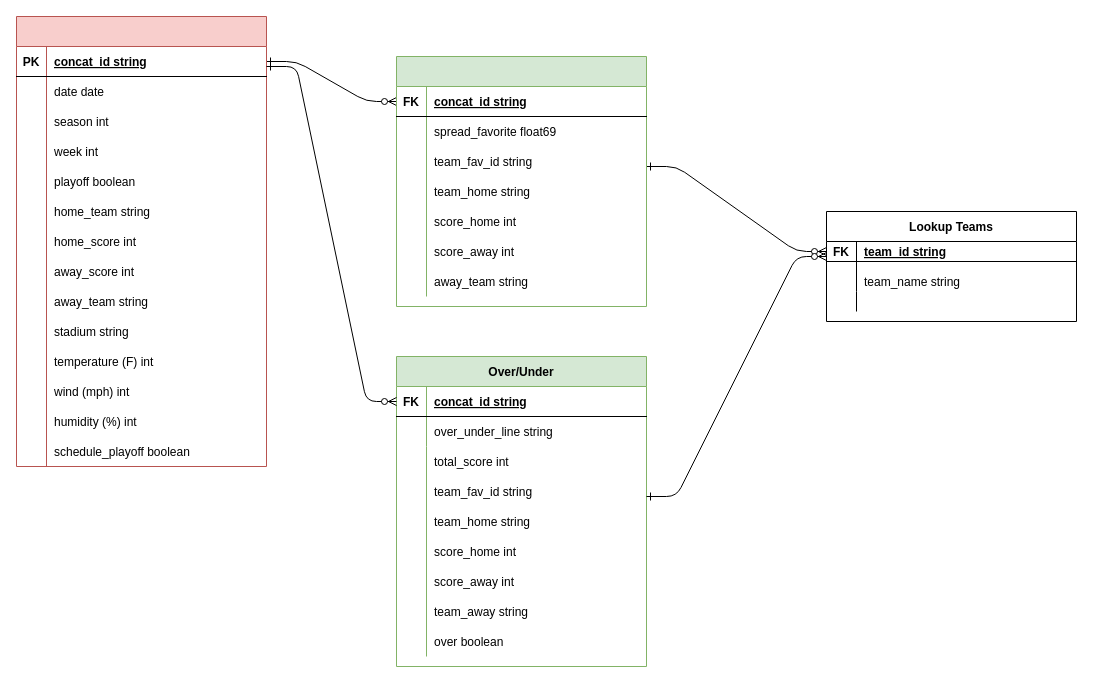
The diagram is 1093 pixels wide and 683 high, and some of its shapes have lost their labels. Each missing label, with the box of its shape:
Games: (16, 16, 266, 466)
Point Spread: (396, 56, 646, 306)
